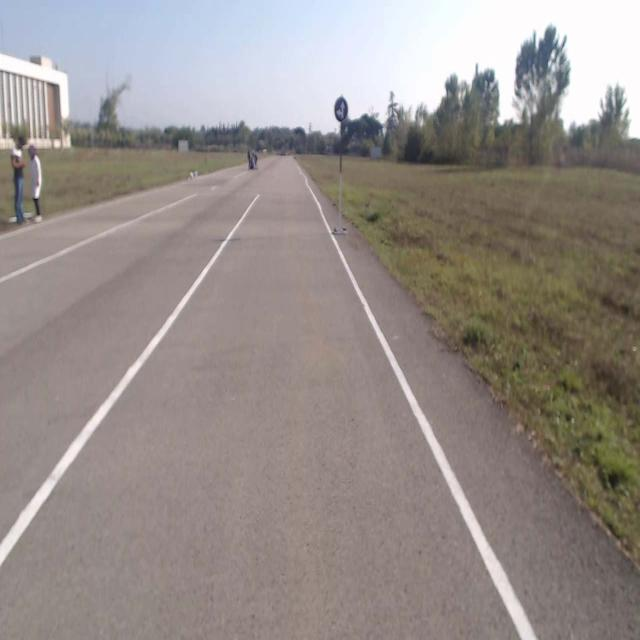ilerisol: (334, 98, 348, 121)
